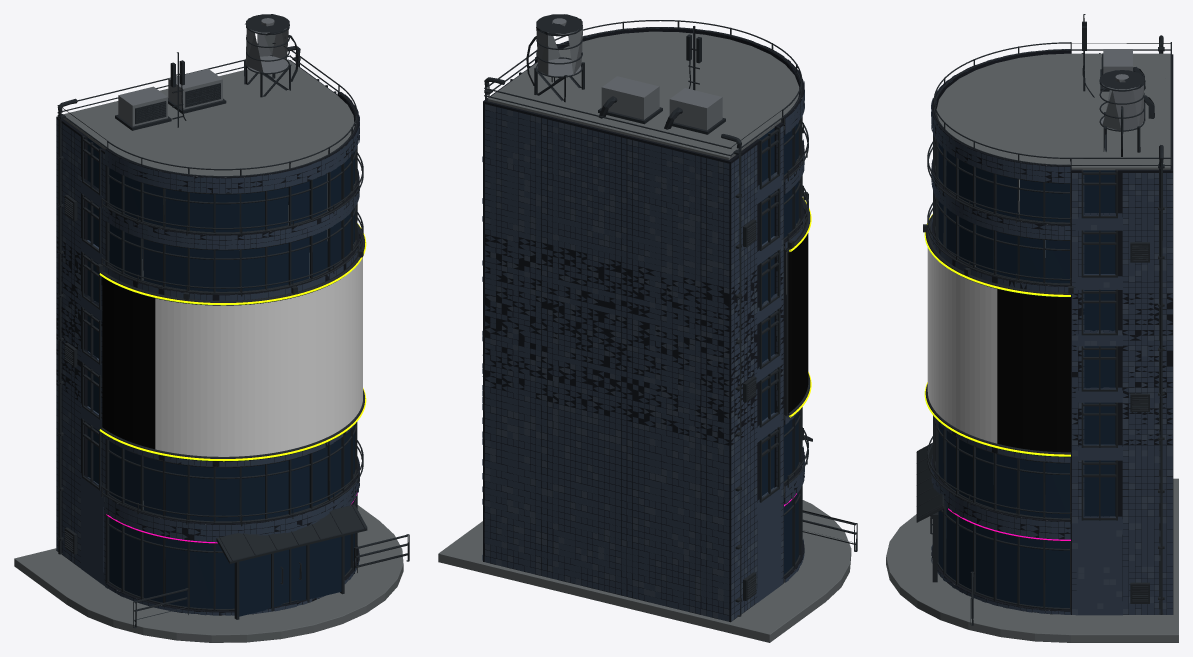
File: runner-building-01.glb
3 renders of one model, left to right at view 1: azimuth 30°, elevation 25°; view 2: azimuth 150°, elevation 25°; view 3: azimuth 270°, elevation 25°, orthographic. The views are drawn at different scales.
Visible parts, largest first — view 1: building-01, building-01-ad; view 2: building-01; view 3: building-01, building-01-ad.
Boxes of the visible parts, x1,y1,x2,y2 form: building-01: (14,14,409,642); building-01-ad: (155,257,362,456); building-01: (438,14,857,642); building-01: (886,14,1178,642); building-01-ad: (927,248,997,443).
Size of the model in its own units: 6.03 by 9.56 by 4.78.
